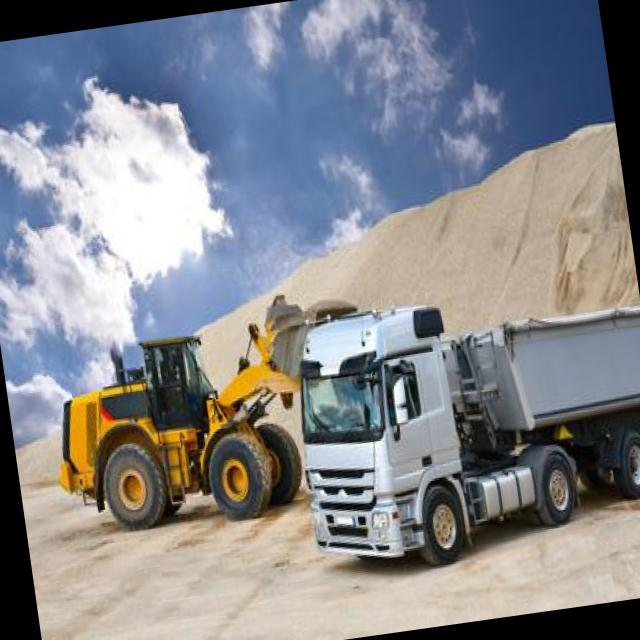Camion volquete: (286, 263, 640, 582), (38, 279, 384, 549)
